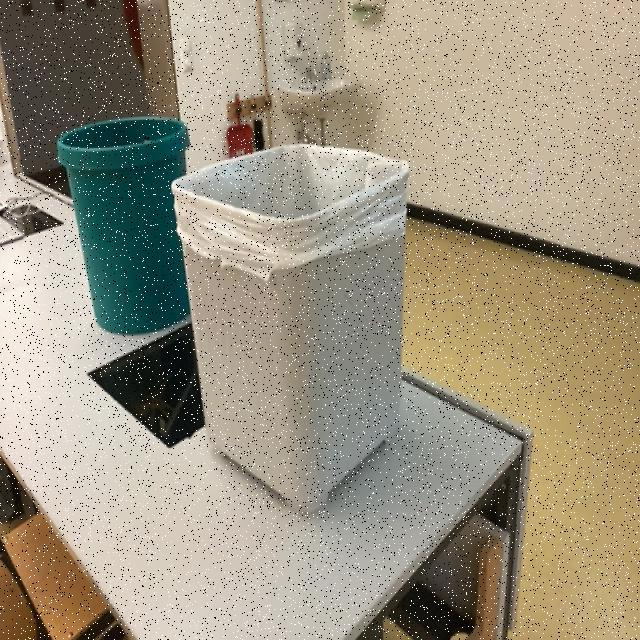garbage container: (168, 123, 450, 527), (21, 51, 212, 347)
